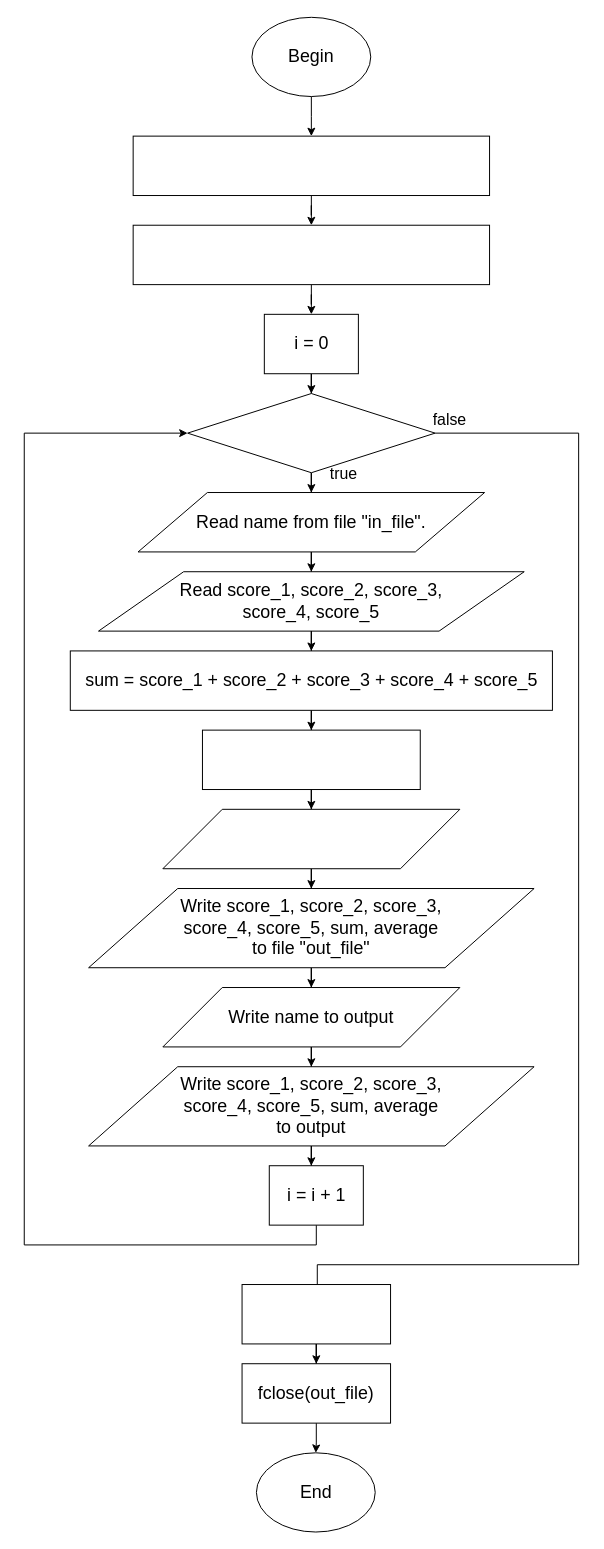
The diagram is 604 pixels wide and 1549 high, and some of its shapes have lost their labels. The shapes that lost their labels are listed below. From the top down, each one's box as (x1, y1, x2, y2) in pixels, then its label:
(132, 135, 490, 196): FILE *in_file = fopen("in_file", "r");
(132, 224, 490, 285): FILE *out_file = fopen("out_file", "w");
(187, 393, 435, 473): i < NUMBER_OF_LINES
(201, 729, 420, 790): average = sum / 5.0
(162, 808, 460, 869): Write name to file "out_file"
(241, 1284, 391, 1344): fclose(in_file)
